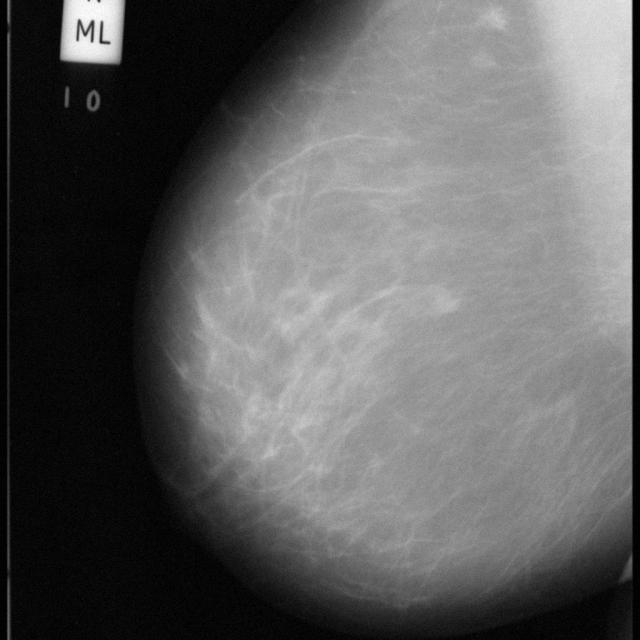MISC: (476, 1, 513, 37)
